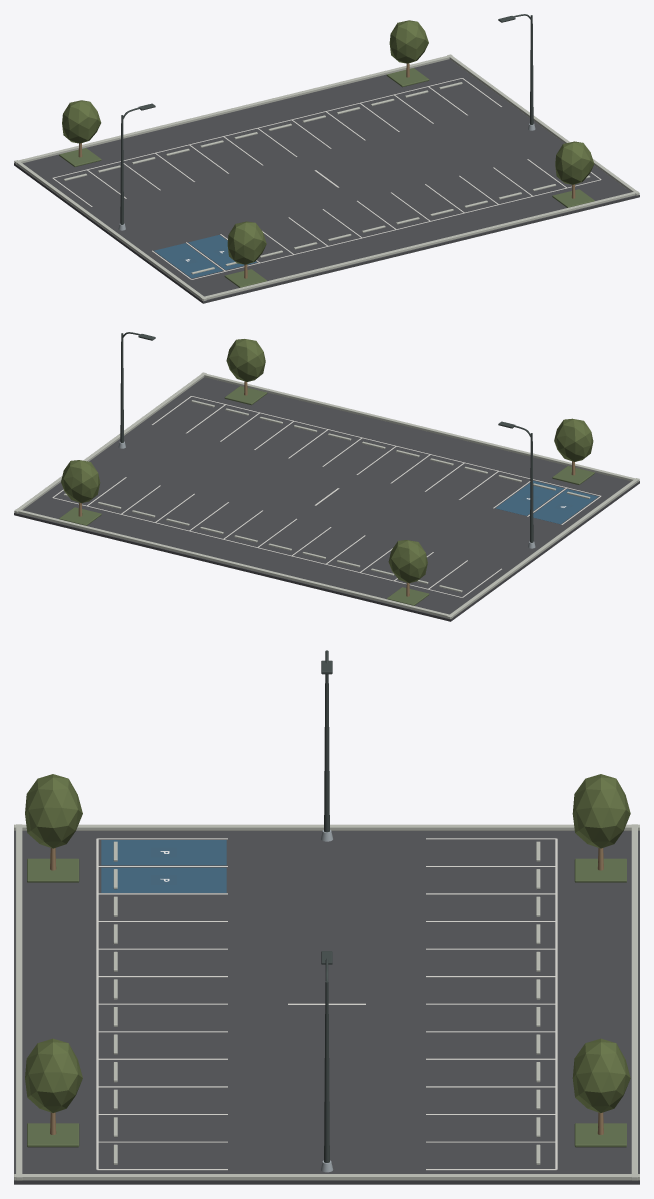
Rendered from surface-parking-lot.glb.
3 views of the same model, one above another, from view 1: azimuth 30°, elevation 25°; view 2: azimuth 150°, elevation 25°; view 3: azimuth 270°, elevation 25° (orthographic). The views are drawn at different scales.
Visible parts, largest first — view 1: surface-parking-lot_bituminous-asphalt, surface-parking-lot_light-precast-concrete, surface-parking-lot_foliage-olive, surface-parking-lot_off-white-painted, surface-parking-lot_utility-blue, surface-parking-lot_turf, surface-parking-lot_powder-coated-frame; view 2: surface-parking-lot_bituminous-asphalt, surface-parking-lot_light-precast-concrete, surface-parking-lot_foliage-olive, surface-parking-lot_off-white-painted, surface-parking-lot_utility-blue, surface-parking-lot_turf, surface-parking-lot_powder-coated-frame; view 3: surface-parking-lot_bituminous-asphalt, surface-parking-lot_light-precast-concrete, surface-parking-lot_foliage-olive, surface-parking-lot_off-white-painted, surface-parking-lot_utility-blue, surface-parking-lot_turf, surface-parking-lot_powder-coated-frame.
Part boxes in pixels (box(x1,y1,x2,y2)): surface-parking-lot_bituminous-asphalt: box(14, 59, 639, 303); surface-parking-lot_light-precast-concrete: box(14, 54, 639, 301); surface-parking-lot_foliage-olive: box(62, 20, 594, 264); surface-parking-lot_off-white-painted: box(52, 78, 601, 279); surface-parking-lot_utility-blue: box(154, 235, 256, 278); surface-parking-lot_turf: box(59, 68, 594, 287); surface-parking-lot_powder-coated-frame: box(120, 14, 533, 224); surface-parking-lot_bituminous-asphalt: box(14, 377, 639, 621); surface-parking-lot_light-precast-concrete: box(14, 372, 639, 619); surface-parking-lot_foliage-olive: box(61, 339, 593, 582); surface-parking-lot_off-white-painted: box(52, 396, 601, 597); surface-parking-lot_utility-blue: box(495, 480, 597, 524); surface-parking-lot_turf: box(59, 386, 594, 605); surface-parking-lot_powder-coated-frame: box(120, 332, 533, 542); surface-parking-lot_bituminous-asphalt: box(14, 831, 639, 1184); surface-parking-lot_light-precast-concrete: box(14, 824, 639, 1180); surface-parking-lot_foliage-olive: box(25, 774, 630, 1112); surface-parking-lot_off-white-painted: box(96, 838, 557, 1170); surface-parking-lot_utility-blue: box(101, 840, 226, 892); surface-parking-lot_turf: box(27, 858, 626, 1147); surface-parking-lot_powder-coated-frame: box(321, 650, 332, 1162).
Bounding box in the file's own units: 32 × 8.38 × 24.
Materials: 3 (3 with a texture image).
